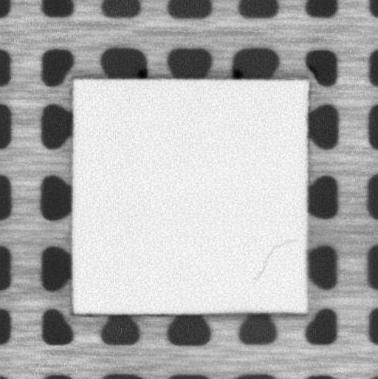DIE_CRACK: (255, 238, 302, 285)
